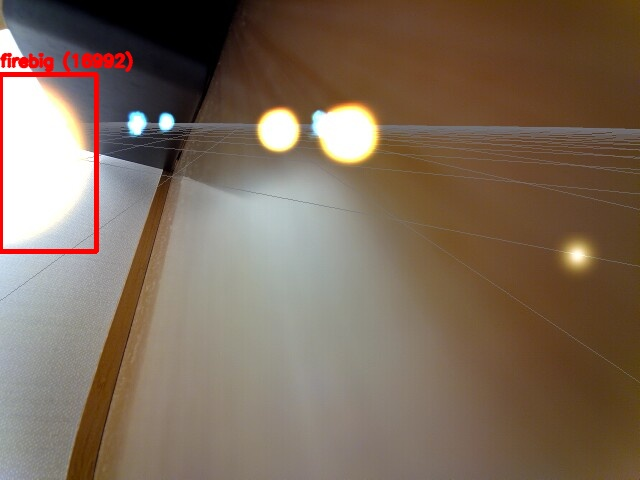firebig: (0, 74, 96, 251)
